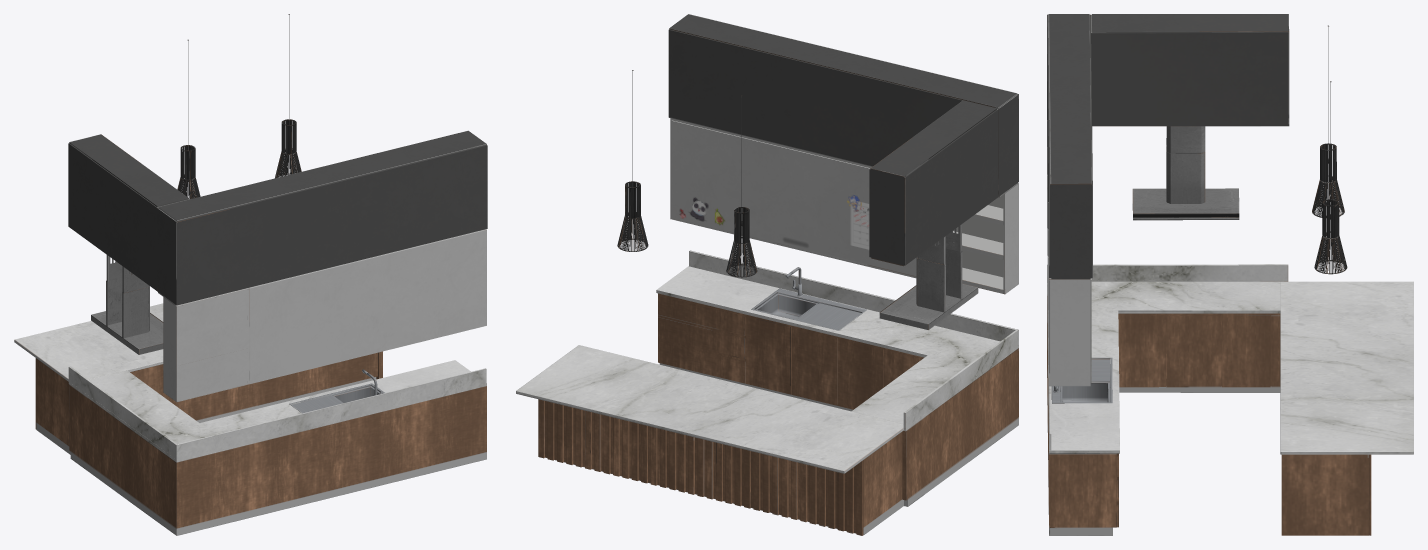
The model's file is Cocina 1.fbx.
3 renders of one model, left to right at view 1: azimuth 30°, elevation 25°; view 2: azimuth 150°, elevation 25°; view 3: azimuth 270°, elevation 25°, orthographic. The views are drawn at different scales.
Parts seen in each view (by area): view 1: Cocina; view 2: Cocina; view 3: Cocina.
Boxes of the visible parts, x1,y1,x2,y2 form: Cocina: [14, 14, 487, 535]; Cocina: [516, 14, 1018, 535]; Cocina: [1047, 14, 1413, 535].
Bounding box in the file's own units: 3.42 × 3.87 × 3.1.
